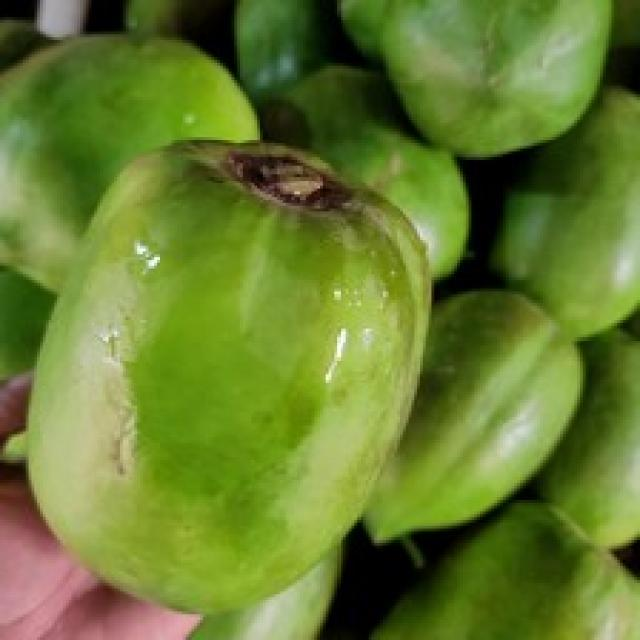Pepaya unrippen: (15, 130, 437, 625)
